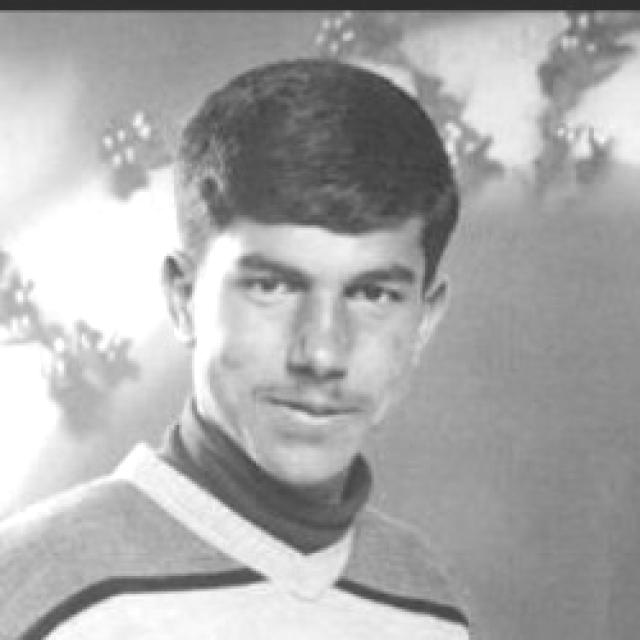real: (198, 72, 440, 510), (233, 254, 425, 324)
